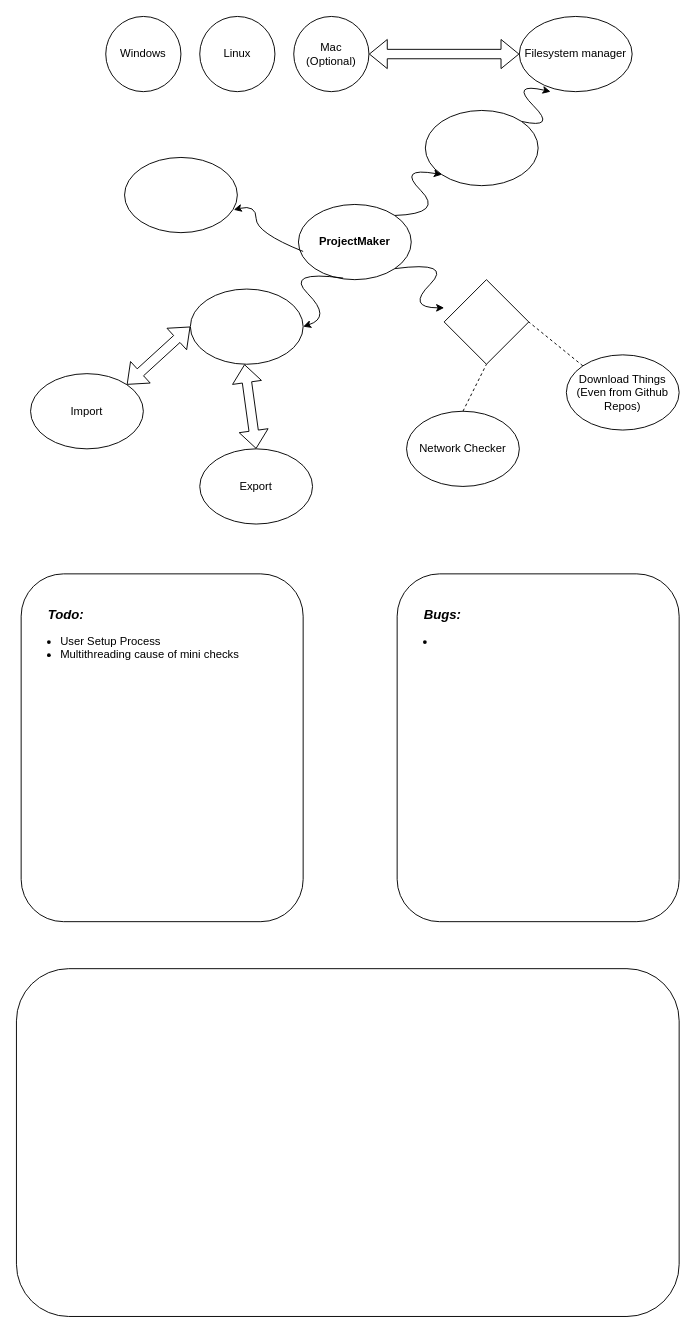
This 696x1333 diagram has some shape labels left out. Here are the shapes that lost their labels. From the top down, the centre of each, then its label:
At point (481, 148): "Parser".
At point (180, 195): "FIle Maker".
At point (246, 326): "Templates Manager".
At point (486, 321): "Network".
At point (347, 1142): "Project Log : [xx/xx/xxxx]".
